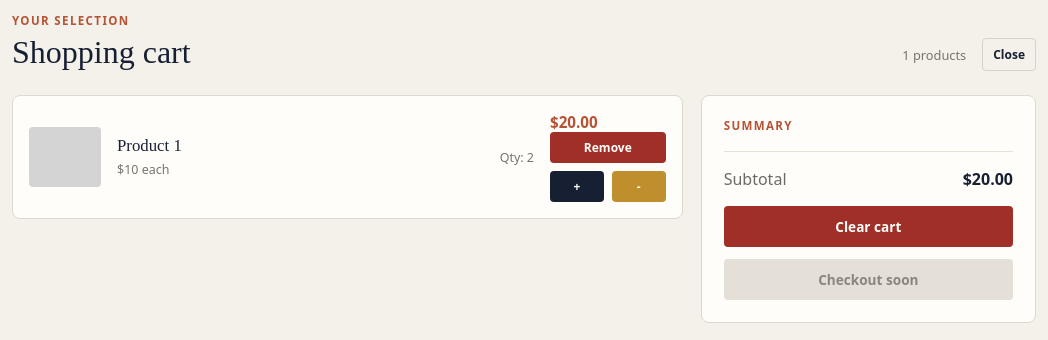
Test: Cart › decreases the item quantity when clicking -
Click the button "-".
click(639, 186)  # box [612, 171, 666, 202]
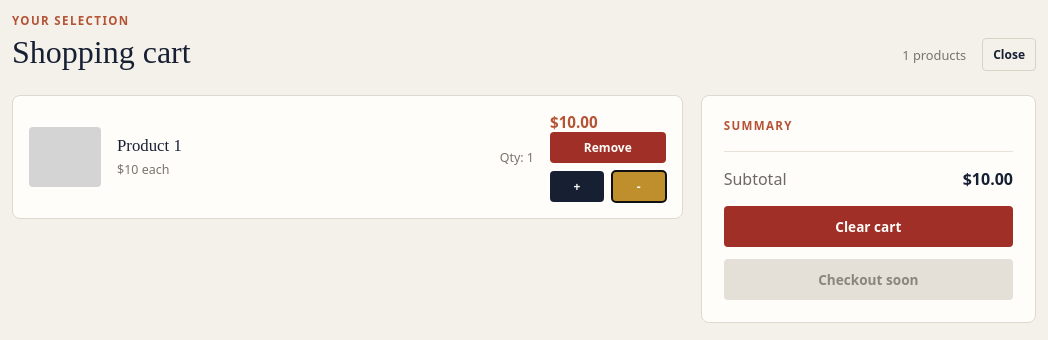
expect the text "Qty: 1" is shown: met, box [500, 148, 534, 166]
